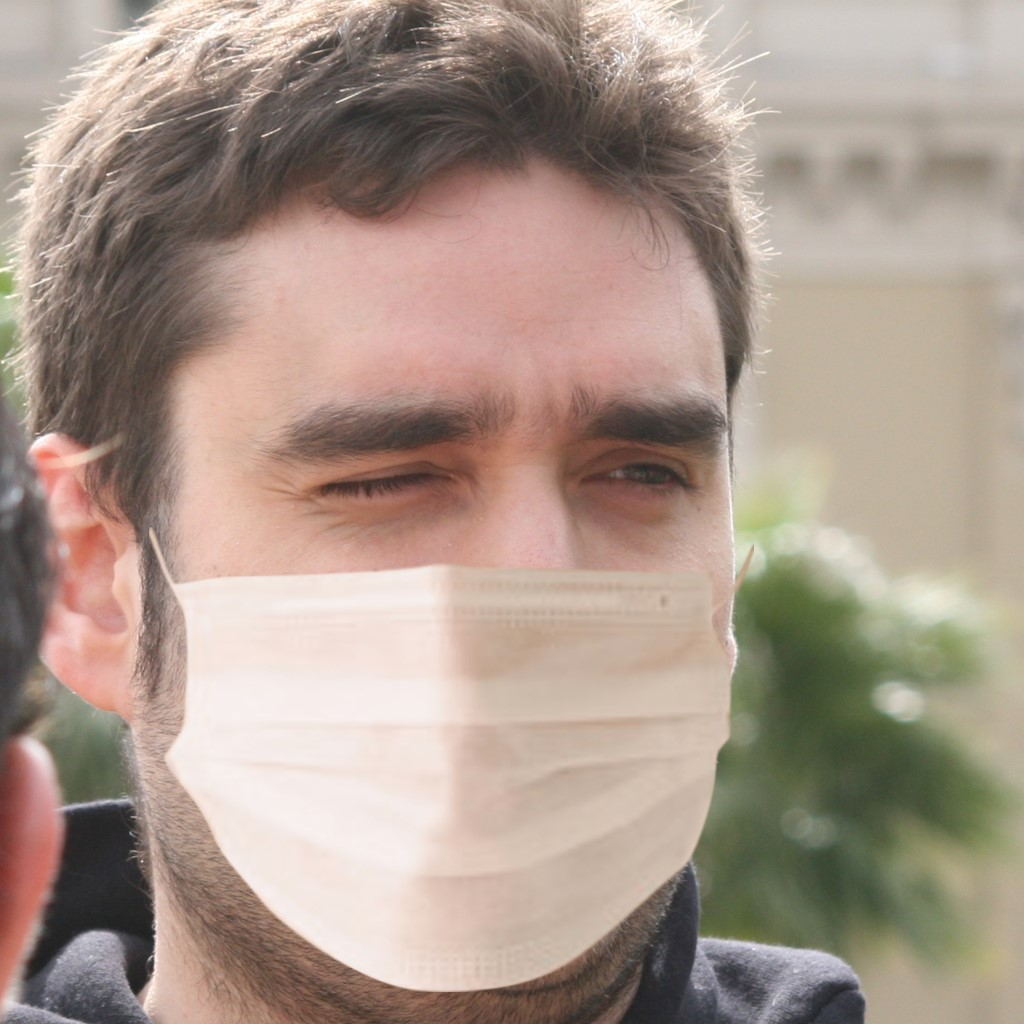con_mascara: (85, 121, 750, 988)
